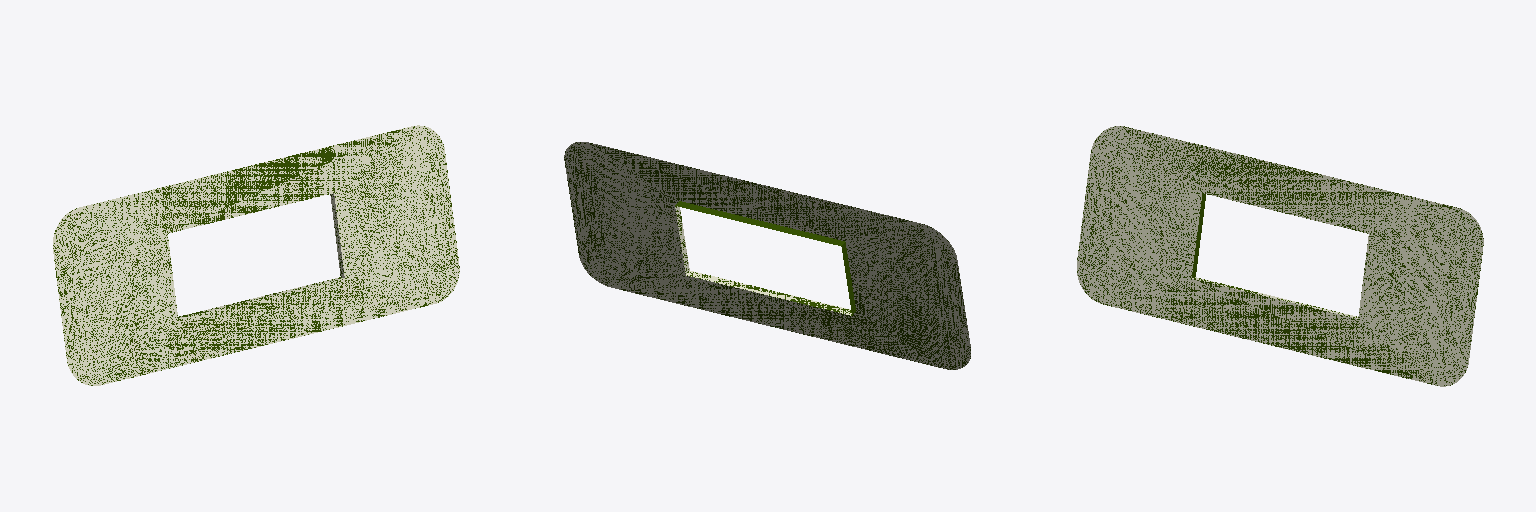
The model's file is original-52.obj.
3 views of the same model, side by side, from view 1: azimuth 30°, elevation 25°; view 2: azimuth 150°, elevation 25°; view 3: azimuth 330°, elevation 25° (orthographic).
Parts seen in each view (by area): view 1: mesh16/mesh16-geometry/material_6#mesh16-geometry; view 2: mesh16/mesh16-geometry/material_6#mesh16-geometry; view 3: mesh16/mesh16-geometry/material_6#mesh16-geometry.
Boxes of the visible parts, box(x1,y1,x2,y2) form: mesh16/mesh16-geometry/material_6#mesh16-geometry: box(53, 125, 459, 385); mesh16/mesh16-geometry/material_6#mesh16-geometry: box(564, 142, 970, 369); mesh16/mesh16-geometry/material_6#mesh16-geometry: box(1077, 126, 1483, 386).
Bounding box in the file's own units: 0.206 × 0.081 × 0.0203.